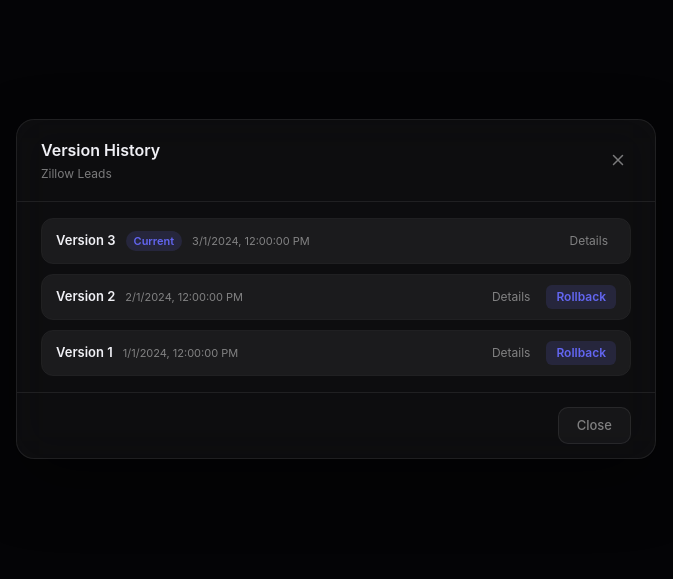
Scenario: RegexVersionHistory › hides version details when Hide button is clicked
Check: the list with test id "version-list" is shown, box [41,218,631,376]
Click the button with test id "toggle-version-2". click: (511, 297)
box: [484,285,538,309]
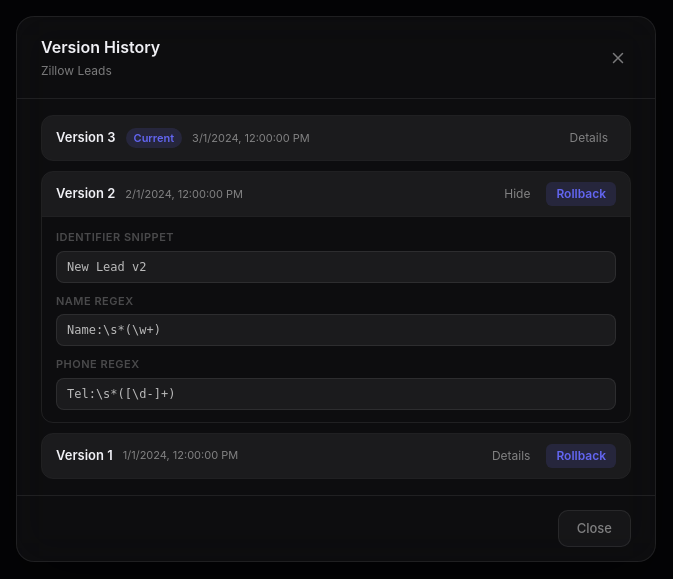
Check: the element with test id "version-details-2" is shown, box [42,216,630,422]
Click the button with test id "toggle-version-2". click: (517, 194)
box: [496,182,538,206]
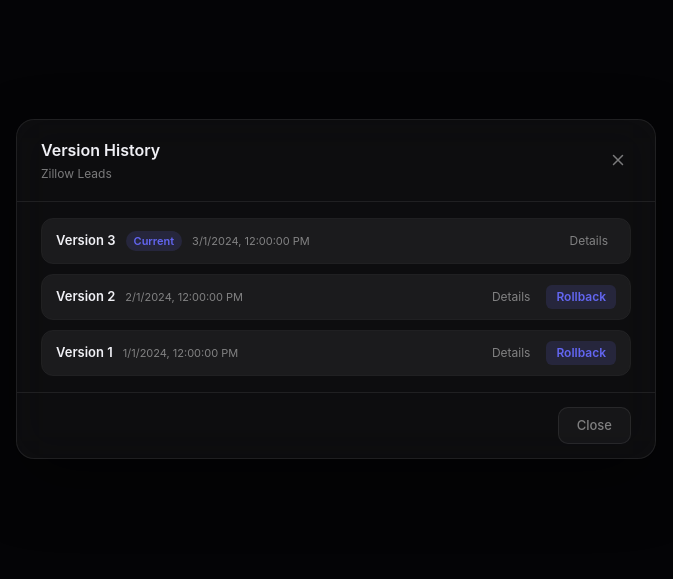
Check: the element with test id "version-details-2" is gone
